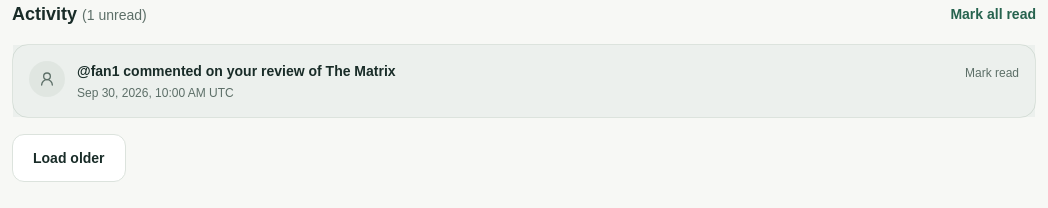
Test: <NotificationInbox> › loads older notifications by cursor
The width and height of the screenshot is (1048, 208).
Click the button "Load older" at (69, 158), box [12,134,126,182]
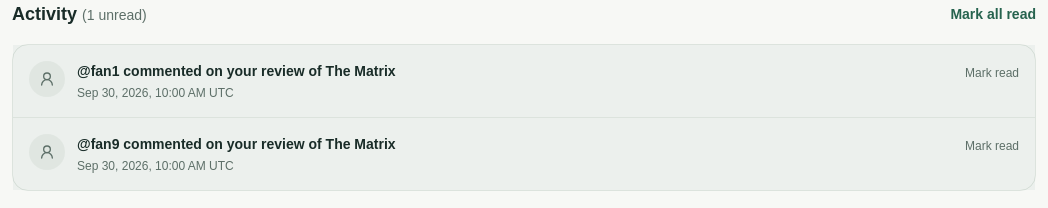
Expected: the text "@fan9" is shown, [76,135,396,152]
